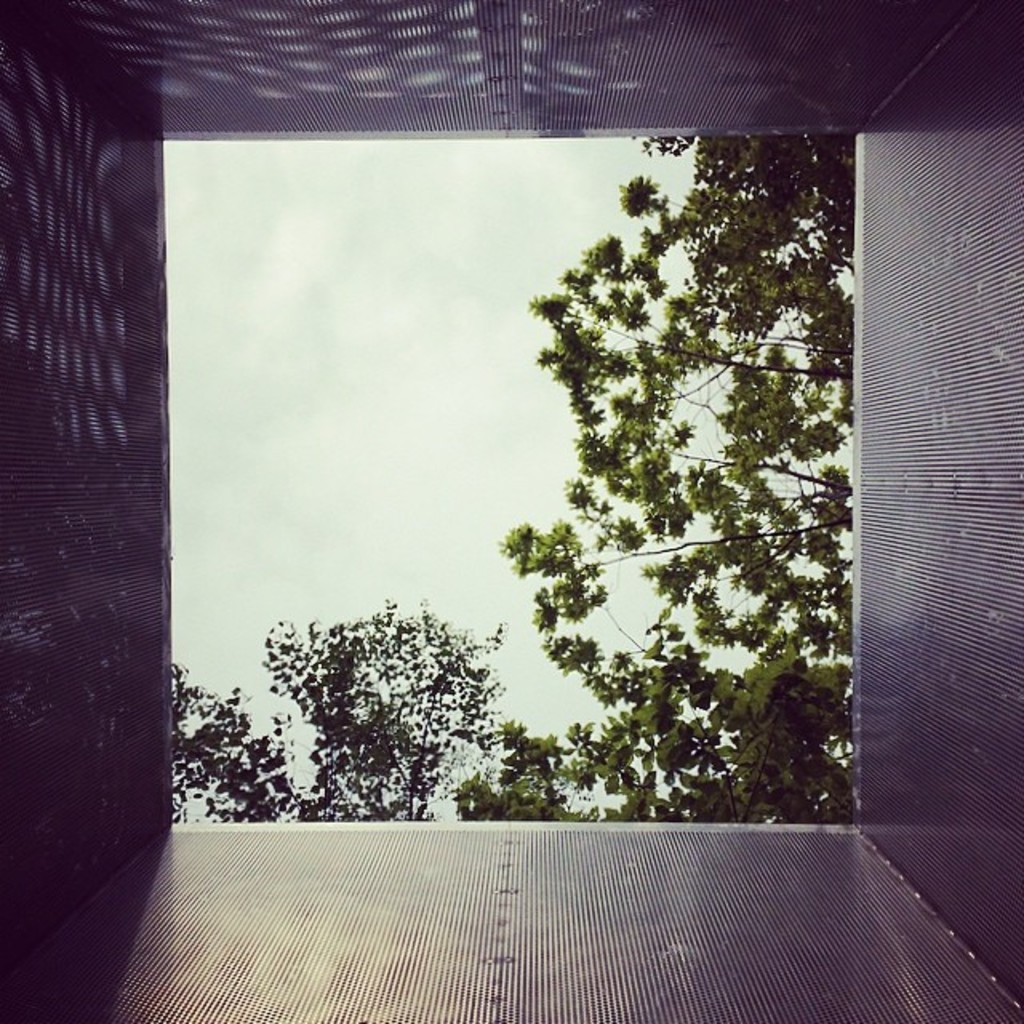Tree: (448, 126, 855, 822), (171, 595, 508, 823)
